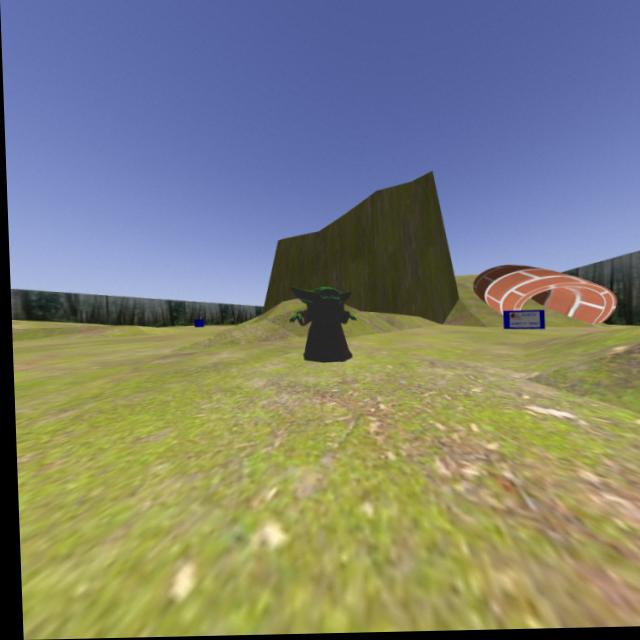yoda: (282, 280, 363, 367)
